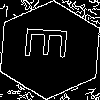E: (25, 25, 78, 61)
